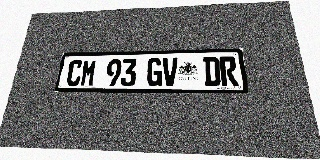3: (120, 58, 137, 86)
9: (105, 59, 122, 86)
C: (65, 59, 83, 87)
D: (203, 57, 221, 86)
G: (146, 58, 162, 86)
M: (80, 59, 97, 86)
R: (219, 56, 239, 86)
V: (162, 58, 178, 86)
